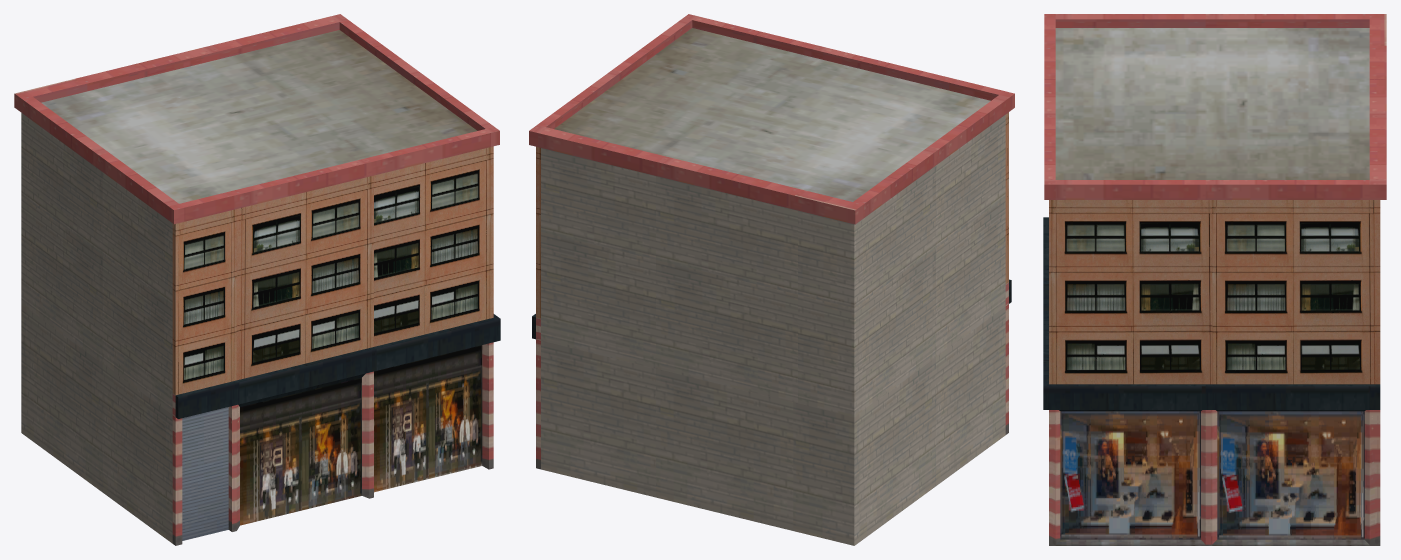
Rendered from house18_8.fbx.
The picture shows the model from 3 angles, left to right: view 1: azimuth 30°, elevation 25°; view 2: azimuth 150°, elevation 25°; view 3: azimuth 270°, elevation 25°; orthographic projection. The views are drawn at different scales.
Parts seen in each view (by area): view 1: Pizza_Delivery:Pizza_Delivery:house18_8; view 2: Pizza_Delivery:Pizza_Delivery:house18_8; view 3: Pizza_Delivery:Pizza_Delivery:house18_8.
Part boxes in pixels (x1,y1,x2,y2): Pizza_Delivery:Pizza_Delivery:house18_8: (14,14,500,545); Pizza_Delivery:Pizza_Delivery:house18_8: (529,14,1014,545); Pizza_Delivery:Pizza_Delivery:house18_8: (1043,14,1386,545).
Size of the model in its own units: 11.88 by 11.78 by 10.1.
